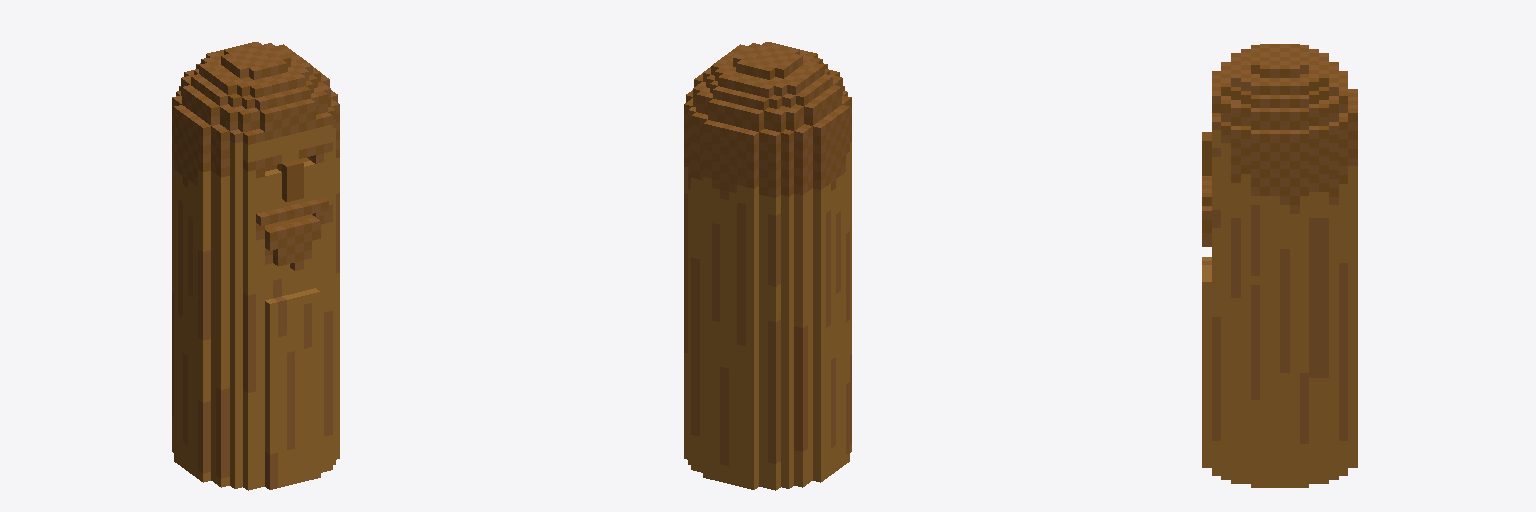
3 renders of one model, left to right at view 1: azimuth 30°, elevation 25°; view 2: azimuth 150°, elevation 25°; view 3: azimuth 270°, elevation 25°, orthographic.
Visible parts, largest first — view 1: Model; view 2: Model; view 3: Model.
Boxes of the visible parts, x1=… form: Model: x1=172, y1=42, x2=339, y2=490; Model: x1=684, y1=42, x2=851, y2=490; Model: x1=1202, y1=44, x2=1357, y2=487.
Bounding box in the file's own units: 11.38 × 32 × 11.38.
1 materials, 1 textured.